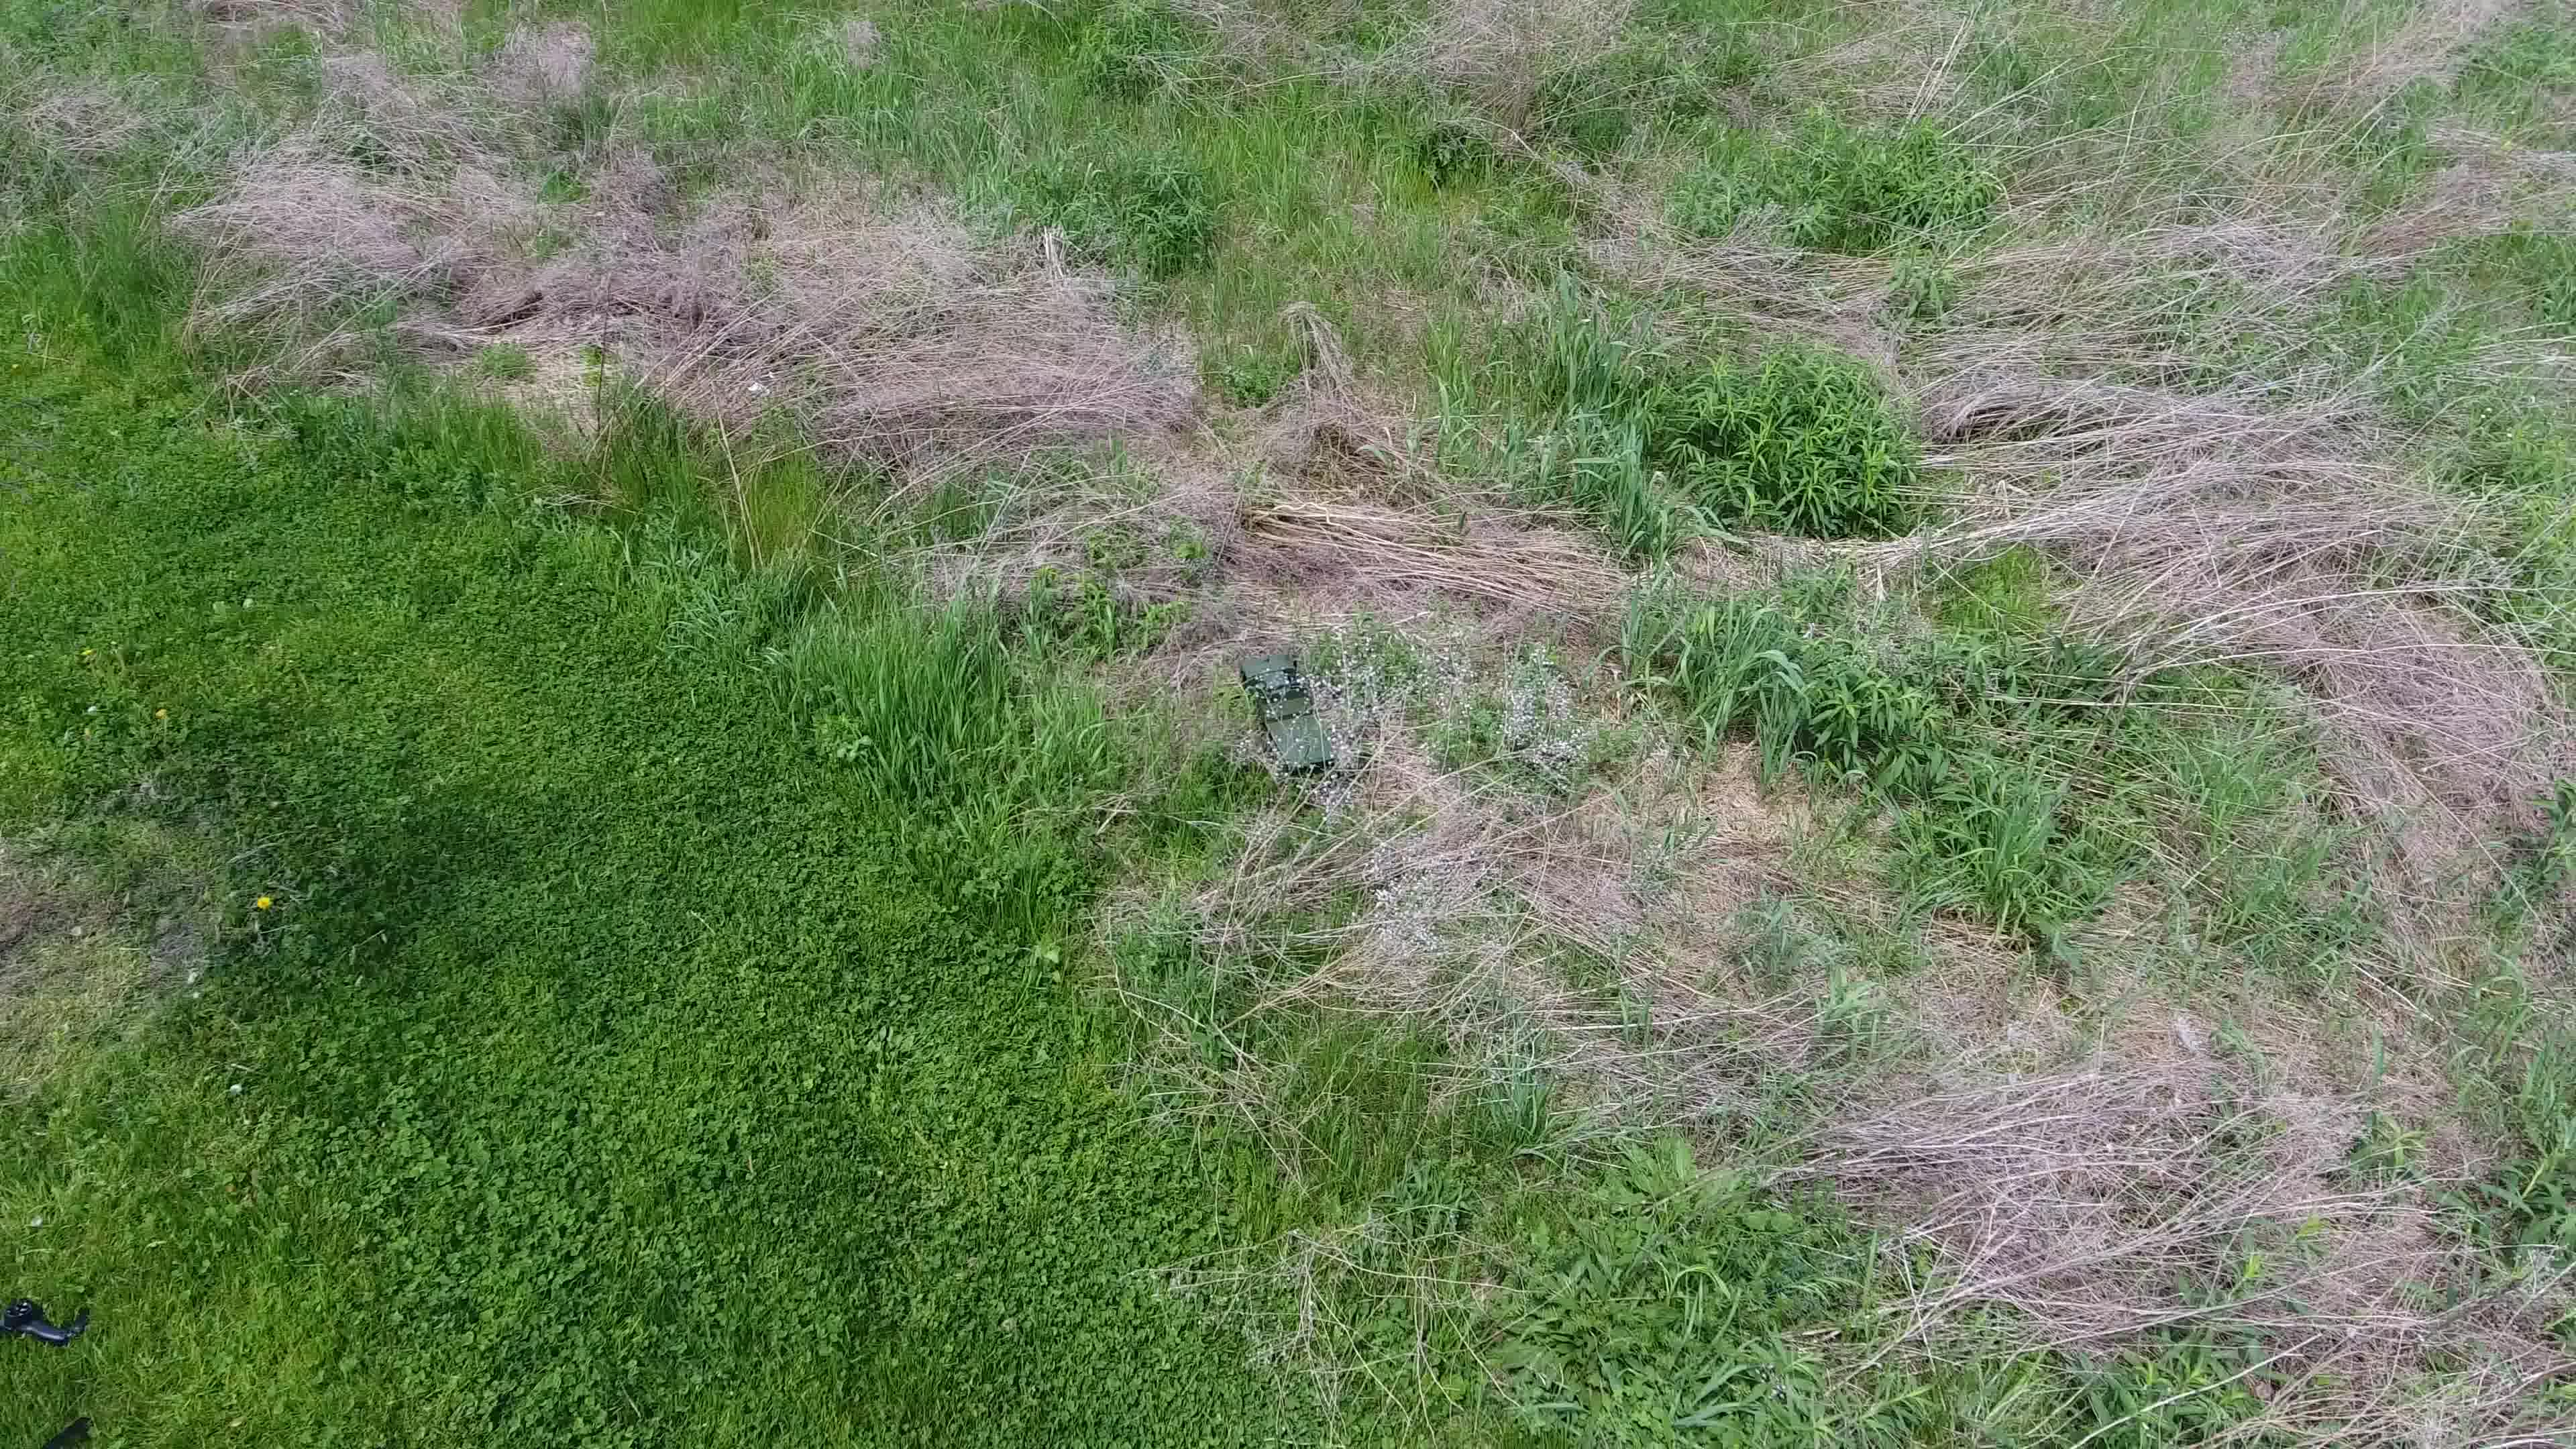transporter9: (1235, 653, 1346, 775)
